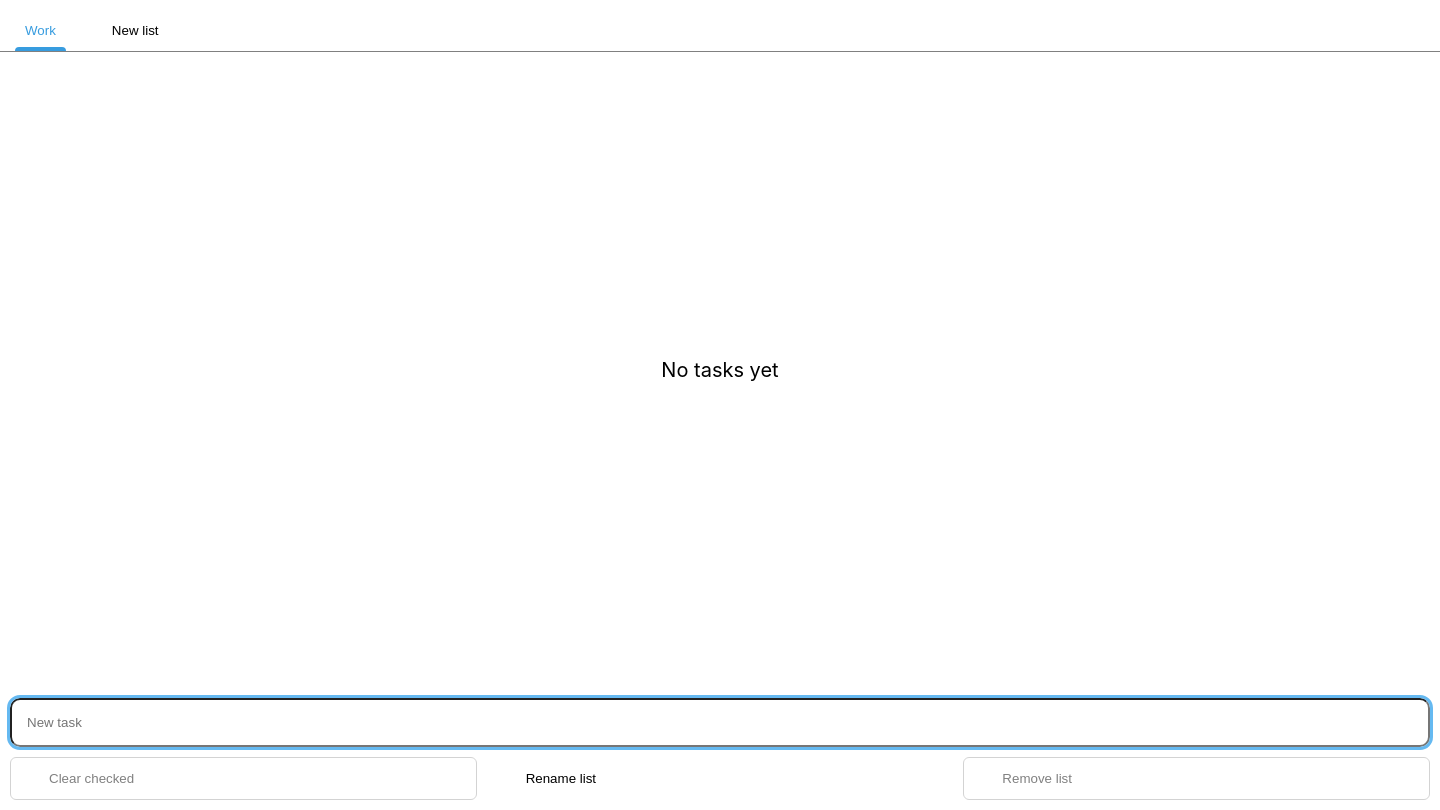
Test: Tasks - todo operations › Should add todo
Type "shopping" into the field with test id "add-todo-input" at (720, 722), box [10,698,1430,747]
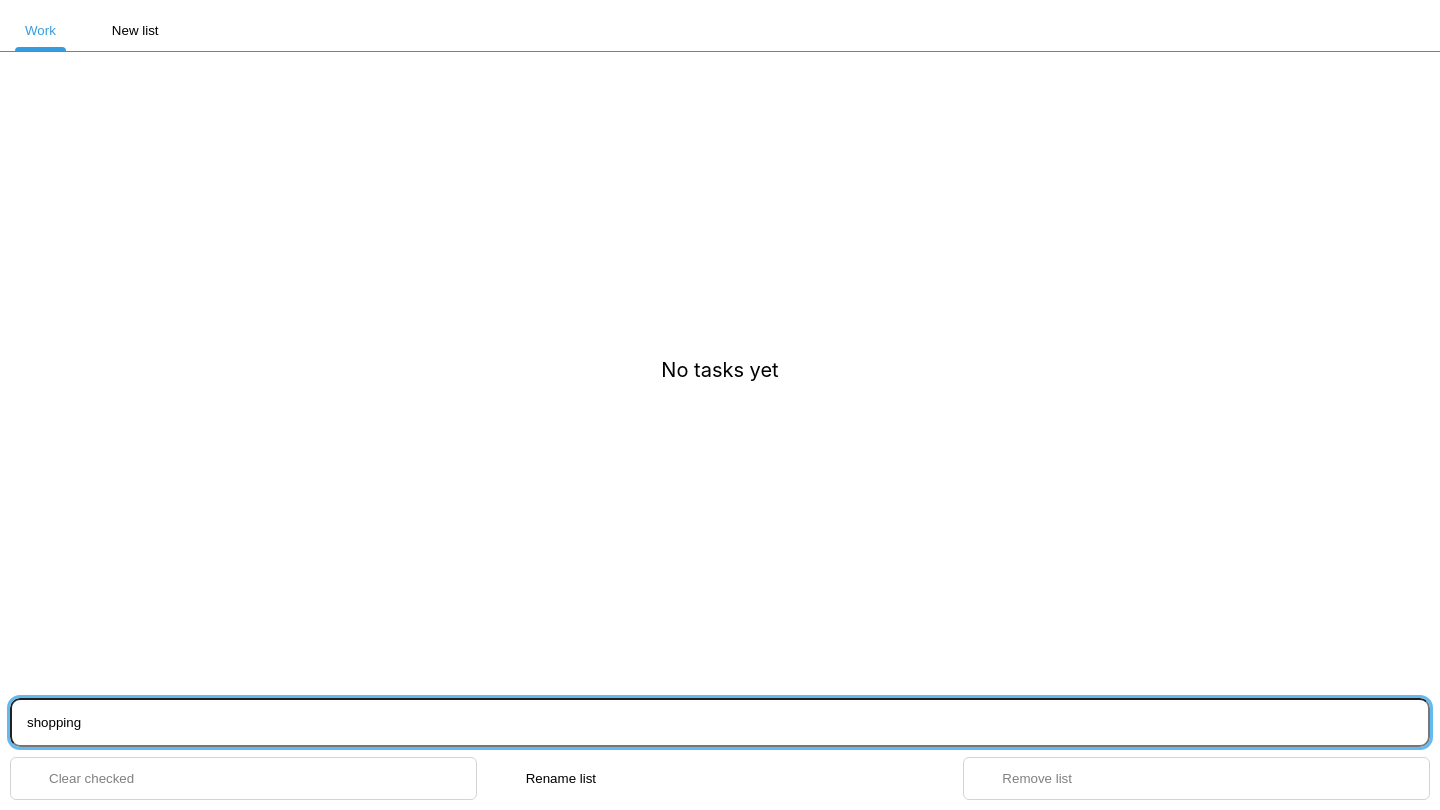
Submit the form from the field with test id "add-todo-input", box [10,698,1430,747]
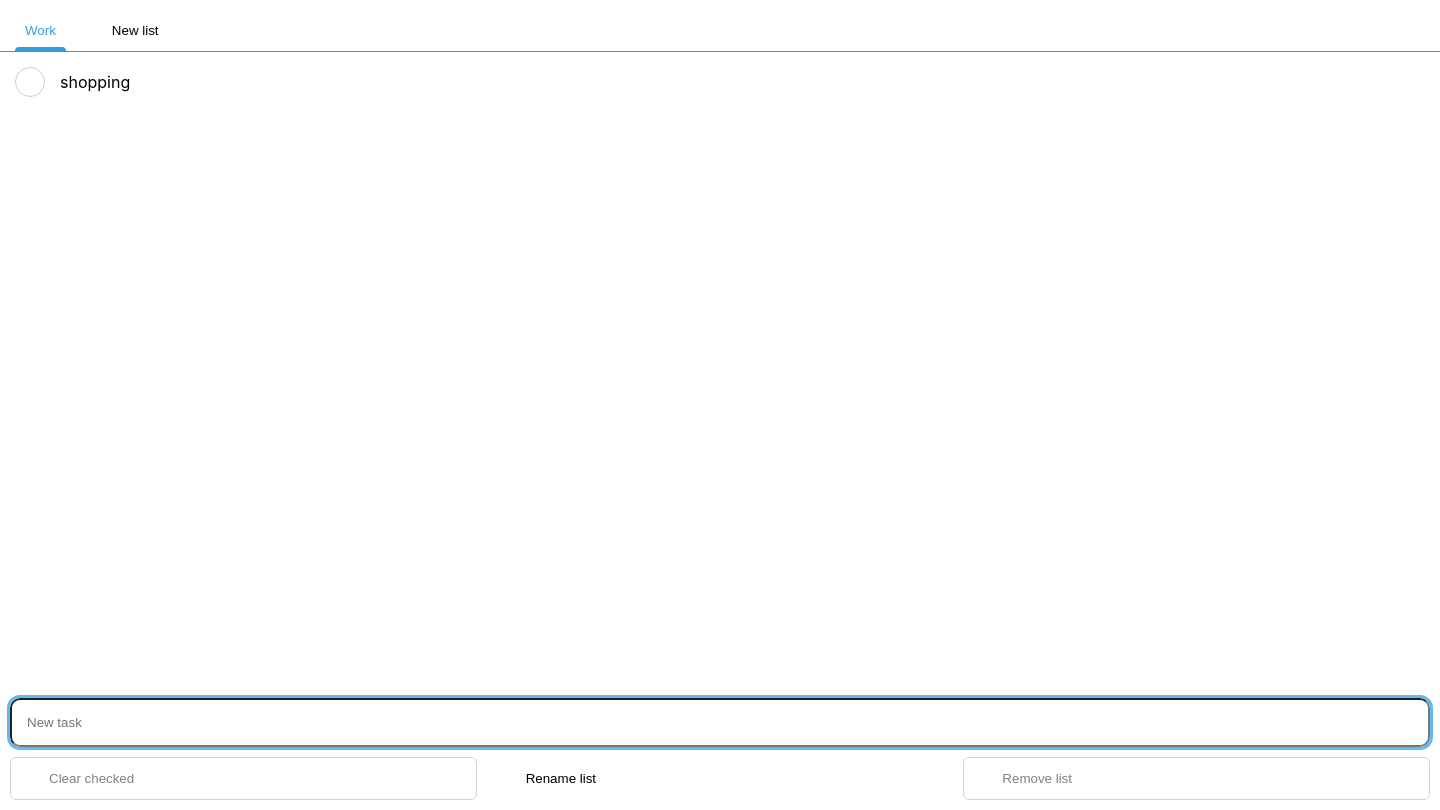
Expected: the text "shopping" is shown, [60,72,130,92]
